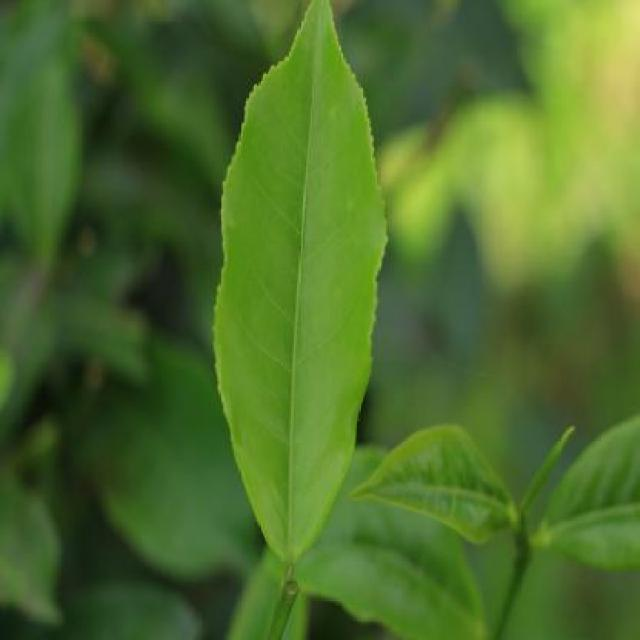Tea leaf: (202, 8, 396, 575)
